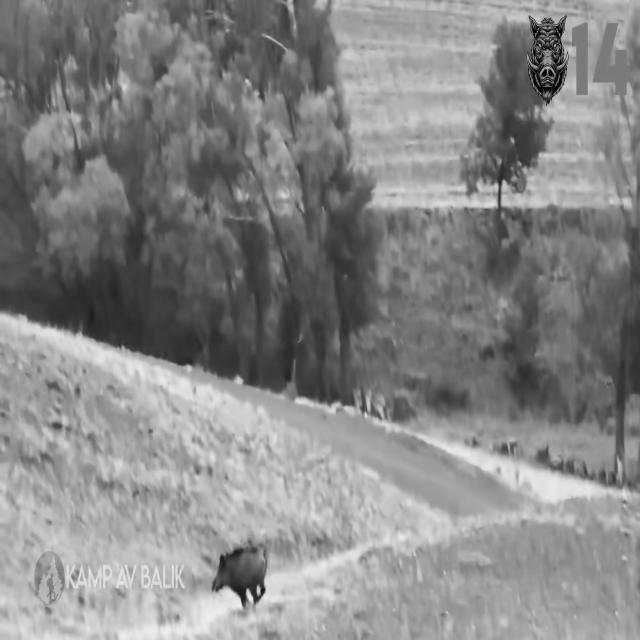boar: (212, 546, 267, 607)
